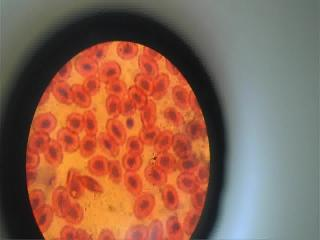cell: (134, 195, 156, 217), (105, 119, 126, 140), (164, 106, 184, 128), (145, 164, 167, 184), (172, 85, 190, 109), (129, 85, 149, 106), (58, 130, 79, 150), (33, 114, 57, 131), (119, 42, 144, 58), (179, 173, 200, 192), (76, 57, 98, 75), (54, 84, 72, 106), (72, 84, 90, 106), (123, 152, 145, 170), (166, 215, 182, 239), (26, 189, 46, 208), (140, 56, 158, 77), (68, 170, 82, 197), (49, 141, 66, 163), (156, 152, 178, 169), (163, 186, 180, 208), (155, 72, 169, 98), (134, 73, 153, 92), (100, 64, 124, 79), (142, 101, 157, 125), (28, 133, 48, 151), (125, 172, 143, 192), (110, 159, 124, 184), (54, 187, 66, 216), (139, 126, 158, 144), (174, 135, 192, 154), (63, 113, 83, 130), (125, 135, 145, 152), (90, 157, 108, 175), (100, 132, 114, 155), (108, 79, 128, 95), (148, 220, 164, 240), (155, 133, 173, 150), (127, 223, 145, 240), (104, 96, 120, 115), (80, 136, 96, 155), (85, 110, 99, 131), (36, 211, 53, 228), (68, 203, 84, 221), (189, 121, 205, 139), (85, 77, 101, 93), (122, 98, 136, 115), (192, 190, 206, 207)
